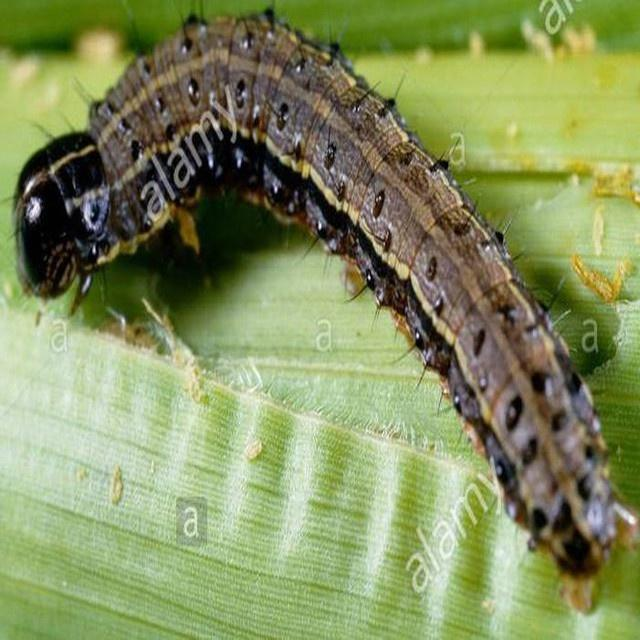worm: (3, 1, 640, 616)
